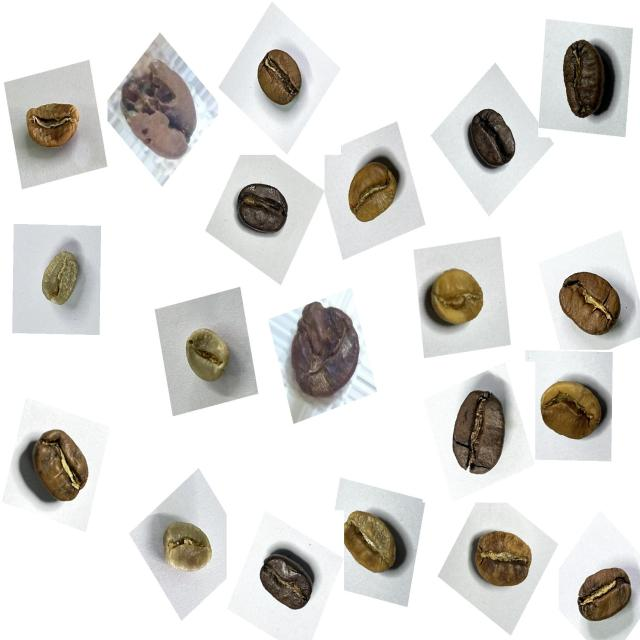bad: (113, 51, 206, 172), (279, 294, 372, 412)
dark: (252, 542, 322, 624), (461, 97, 526, 180), (227, 172, 296, 248)
green: (174, 316, 241, 397), (151, 512, 221, 587), (28, 240, 91, 319)
light: (532, 367, 610, 456), (332, 497, 409, 586), (421, 259, 497, 344), (464, 520, 542, 602), (337, 147, 407, 236), (16, 93, 90, 165)
medium: (436, 380, 519, 488), (18, 417, 103, 516), (548, 31, 626, 132), (550, 262, 630, 348), (567, 556, 639, 637), (247, 39, 311, 117)
